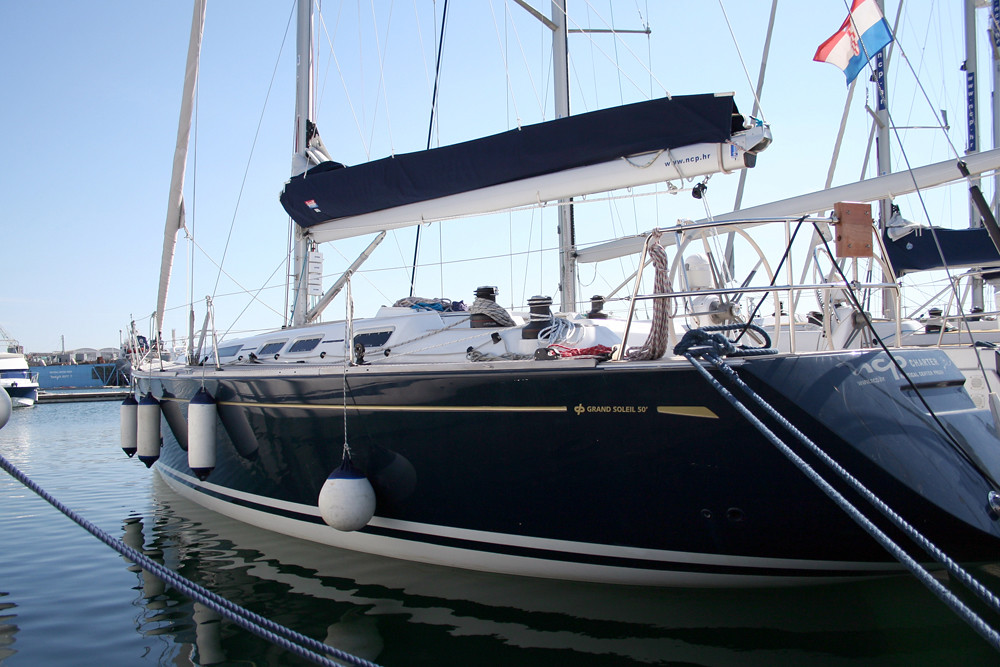boat: (55, 43, 1000, 592)
